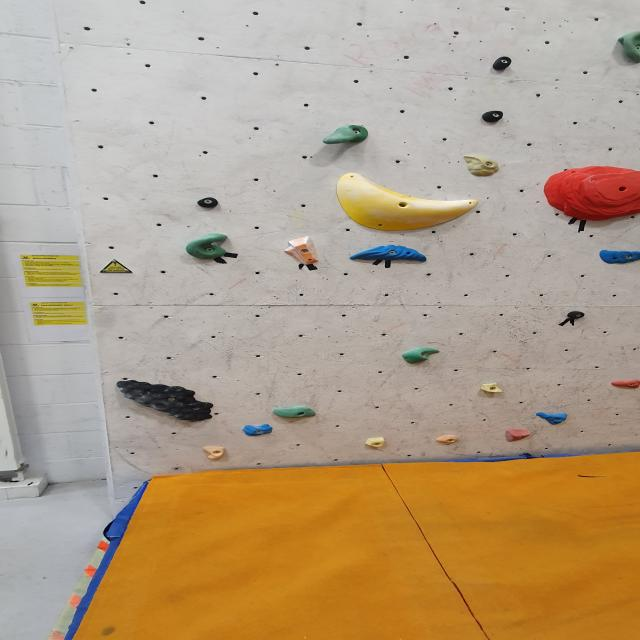Crimp: (540, 170, 639, 225), (348, 246, 430, 263), (527, 407, 580, 427), (463, 154, 506, 177), (473, 378, 508, 397), (598, 249, 640, 264), (607, 376, 640, 391), (200, 445, 230, 461), (240, 425, 278, 436), (505, 428, 533, 441), (363, 436, 389, 449), (436, 432, 461, 444)
Jug: (184, 234, 232, 261), (318, 124, 372, 146), (266, 406, 321, 423), (613, 29, 640, 63), (401, 346, 443, 362)
Pinch: (282, 235, 327, 267), (196, 197, 232, 211), (493, 56, 512, 71), (483, 110, 502, 123), (566, 311, 590, 321)
Sloper: (330, 176, 480, 236), (113, 376, 224, 424)
